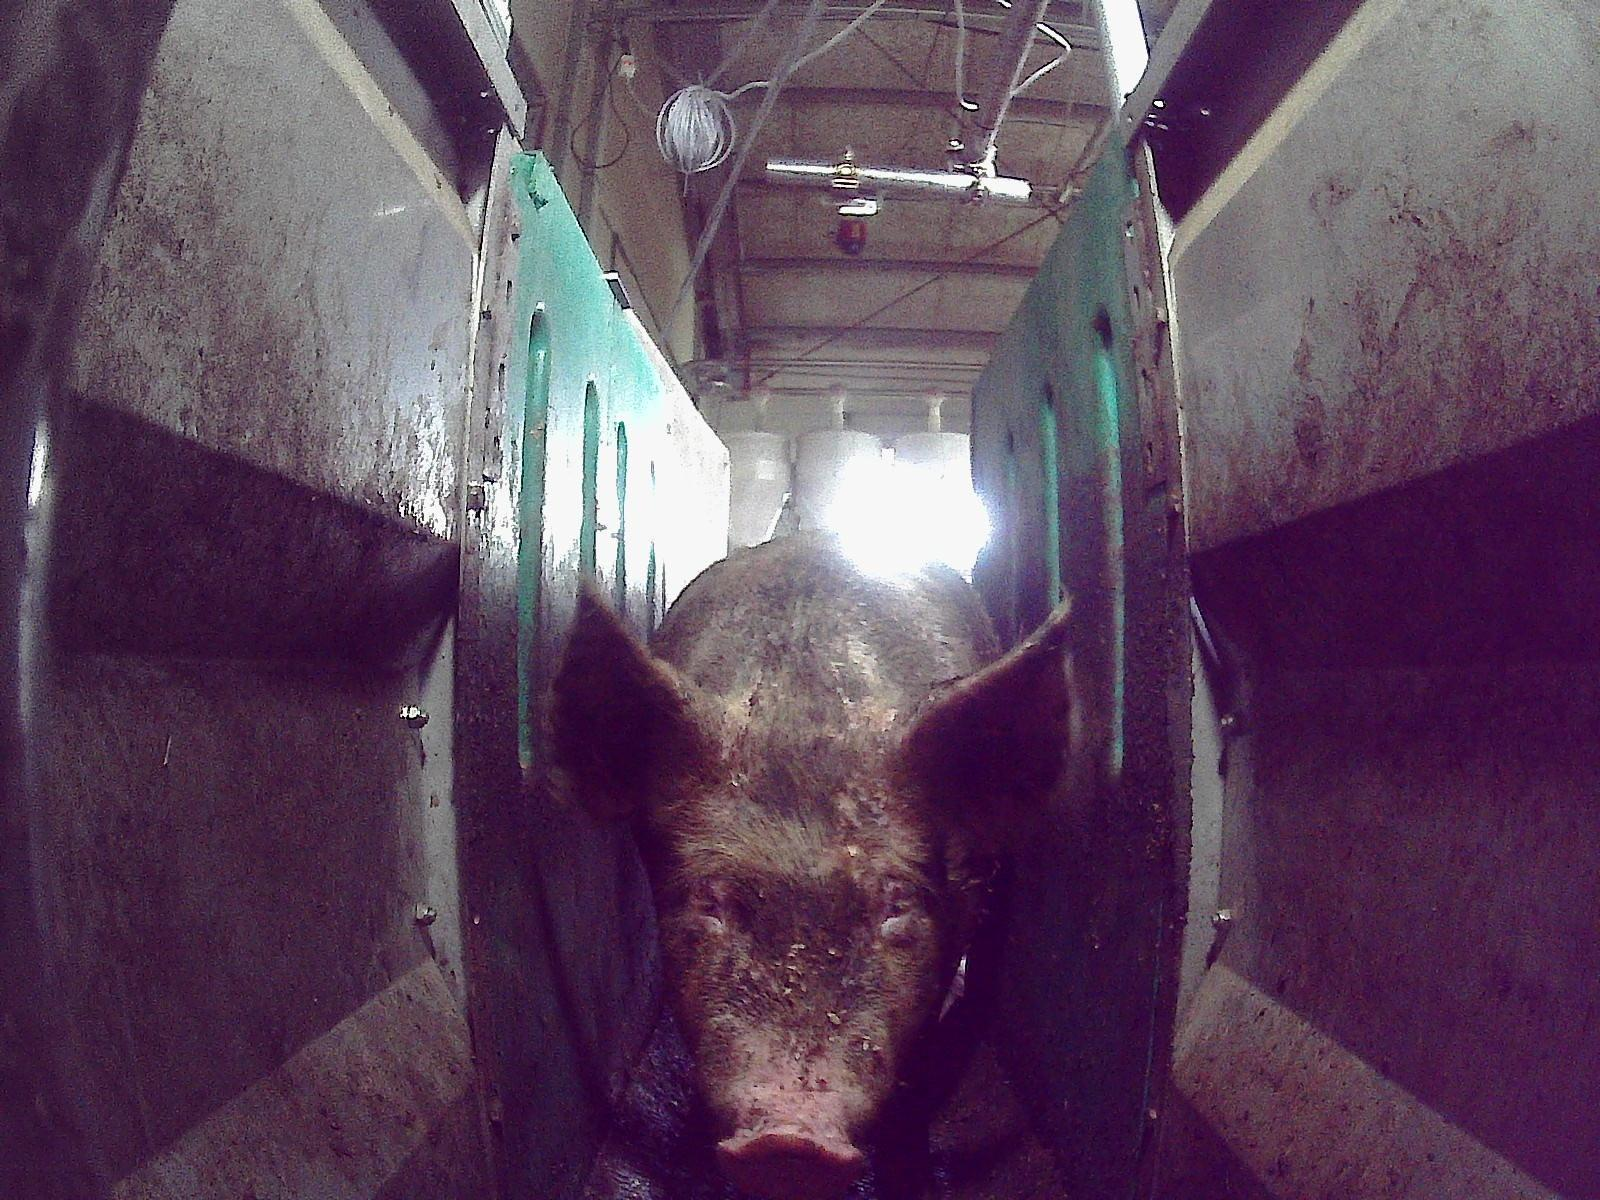Face: (641, 688, 967, 1199)
